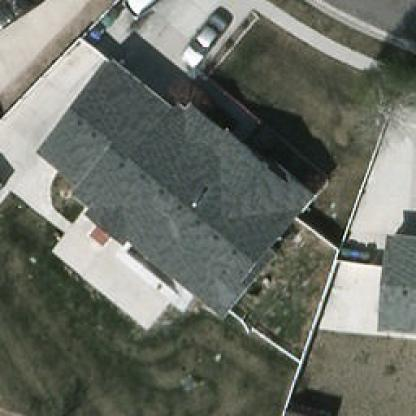car: (180, 8, 230, 68), (119, 0, 188, 16)
